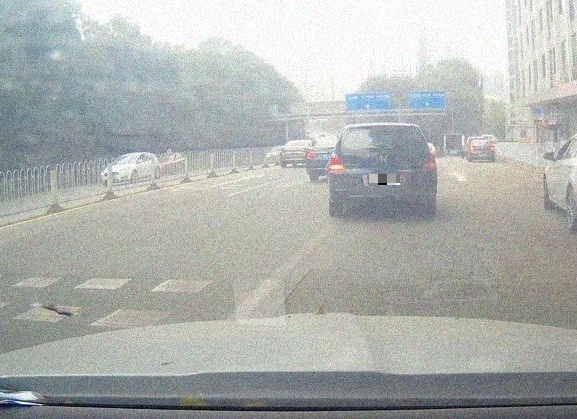L_light: (327, 152, 345, 174)
R_light: (424, 155, 437, 171)
T_light: (375, 126, 393, 129)
day-left: (327, 122, 438, 217)
plate_1: (369, 174, 400, 185)
